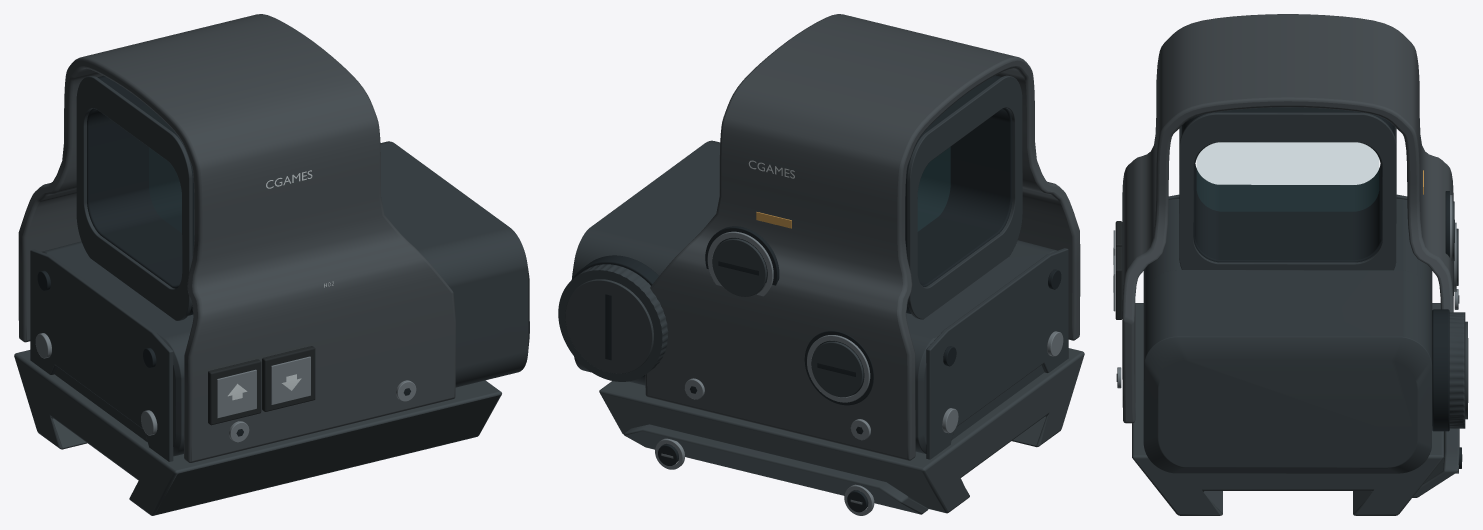
Rendered from H02_Holo_Legacy_K1_Rail_Top.fbx.
3 renders of one model, left to right at view 1: azimuth 30°, elevation 25°; view 2: azimuth 150°, elevation 25°; view 3: azimuth 270°, elevation 25°, orthographic. The views are drawn at different scales.
Parts seen in each view (by area): view 1: 01 open protective U hood, 02 rounded forward casing, 04 undercut adapter bridge, 02 rear visible face plate, 03 inner window structural frame, 03 window rim rear, 03 transparent visual pane, 05 left button face.001, 05 left button face, 05 left button gasket, 05 left button gasket.001; view 2: 01 open protective U hood, 04 undercut adapter bridge, 02 rounded forward casing, 02 rear visible face plate, 03 inner window structural frame, 03 window rim rear, 04 independent right side strip, 05 front cap center, 05 front cap fine grip, 05 right inset disk, 05 right inset disk.001, 03 transparent visual pane (+5 smaller); view 3: 02 rounded forward casing, 01 open protective U hood, 03 inner window structural frame, 03 transparent visual pane, 03 window rim front, 04 undercut adapter bridge, 05 front side cap seat, 05 front cap fine grip, 04 independent right side strip, 05 left button gasket.
Boxes of the visible parts, x1,y1,x2,y2 form: 01 open protective U hood: (18,14,455,462); 02 rounded forward casing: (41,141,529,456); 04 undercut adapter bridge: (14,350,501,515); 02 rear visible face plate: (30,249,173,461); 03 inner window structural frame: (87,75,194,315); 03 window rim rear: (76,76,192,320); 03 transparent visual pane: (149,148,181,232); 05 left button face.001: (217,369,256,418); 05 left button face: (271,356,310,404); 05 left button gasket: (262,346,315,411); 05 left button gasket.001: (208,359,261,425); 01 open protective U hood: (645,14,1080,460); 04 undercut adapter bridge: (599,348,1084,513); 02 rounded forward casing: (572,140,1057,453); 02 rear visible face plate: (926,248,1068,459); 03 inner window structural frame: (905,75,1012,313); 03 window rim rear: (907,75,1022,319); 04 independent right side strip: (624,424,928,514); 05 front cap center: (565,279,653,373); 05 front cap fine grip: (558,264,668,381); 05 right inset disk: (712,238,766,296); 05 right inset disk.001: (811,341,863,397); 03 transparent visual pane: (918,147,950,230); 02 rounded forward casing: (1143,199,1432,473); 01 open protective U hood: (1122,14,1453,423); 03 inner window structural frame: (1181,107,1394,262); 03 transparent visual pane: (1197,142,1378,211); 03 window rim front: (1179,112,1396,270); 04 undercut adapter bridge: (1132,303,1443,515); 05 front side cap seat: (1432,309,1449,431); 05 front cap fine grip: (1449,312,1465,428); 04 independent right side strip: (1412,428,1459,497); 05 left button gasket: (1115,246,1122,319).
Size of the model in its own units: 8.33 by 8.25 by 7.24.
